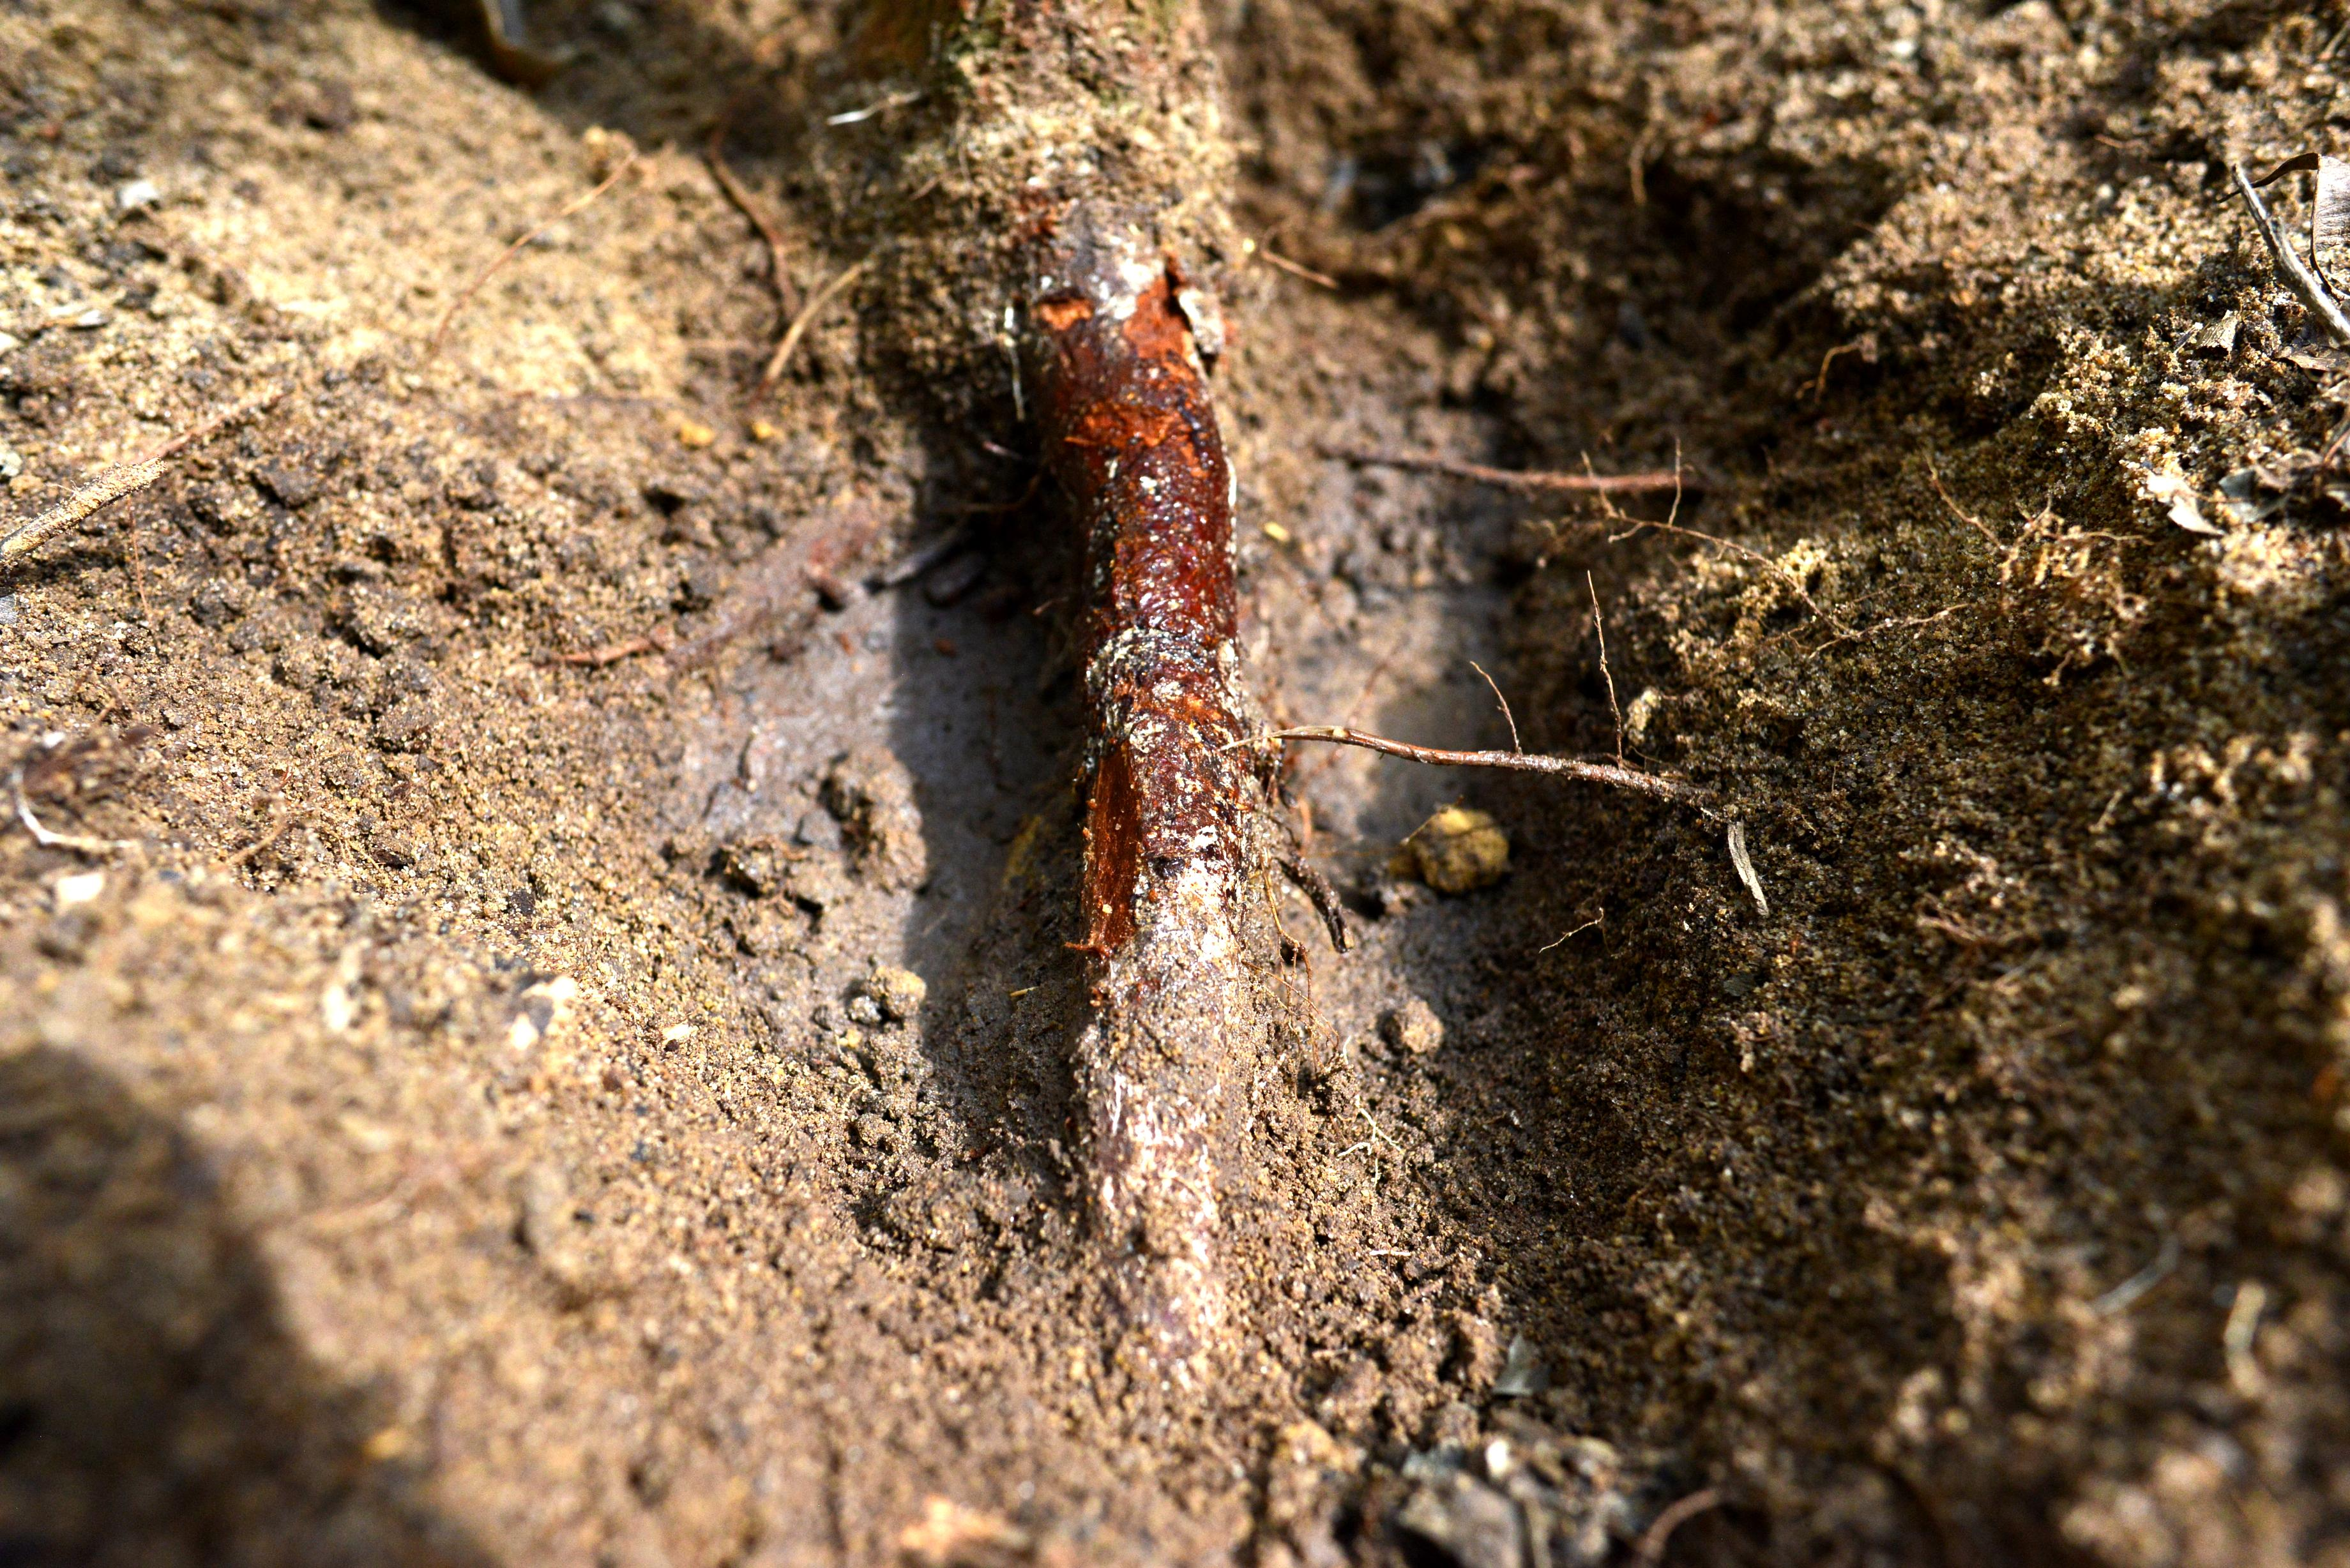Ganoderma - Mycelium: (1038, 1039, 1262, 1382), (1113, 822, 1293, 975), (1118, 453, 1204, 751), (1060, 180, 1186, 311)
Red Root Rot - Secretion: (1003, 315, 1242, 996)
